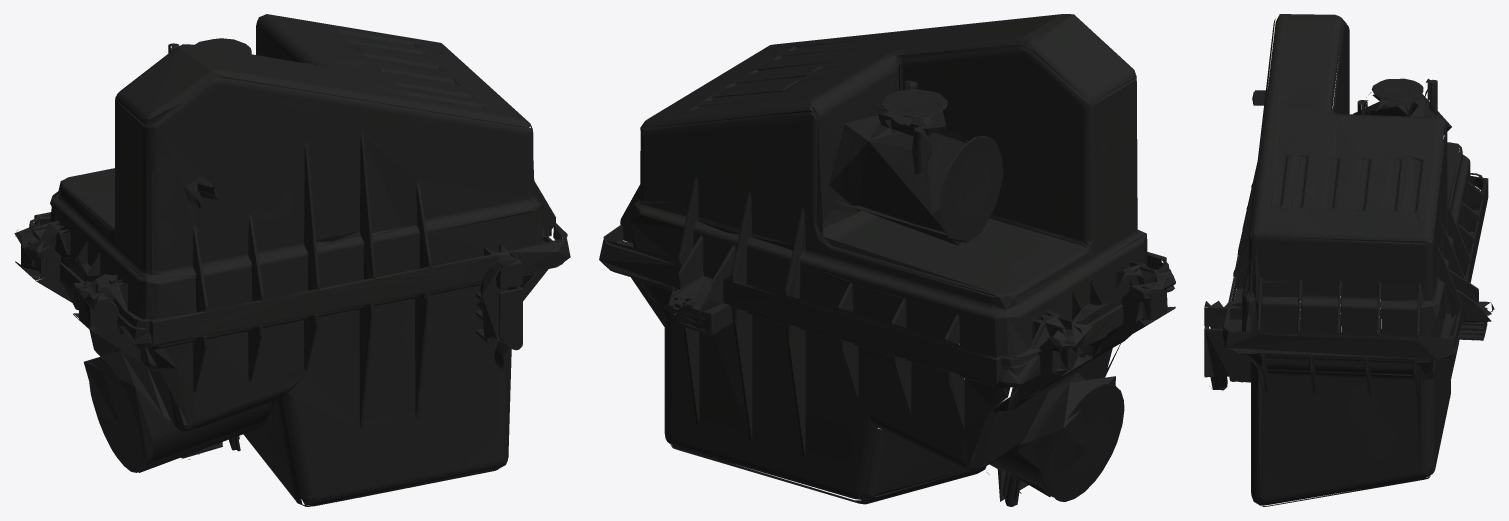
The model's file is airSystem_air_filter_box_a01.glb.
3 renders of one model, left to right at view 1: azimuth 30°, elevation 25°; view 2: azimuth 150°, elevation 25°; view 3: azimuth 270°, elevation 25°, orthographic. The views are drawn at different scales.
Parts seen in each view (by area): view 1: geometry_0; view 2: geometry_0; view 3: geometry_0.
Part boxes in pixels (box(x1,y1,x2,y2)): geometry_0: box(14, 14, 570, 506); geometry_0: box(599, 14, 1175, 506); geometry_0: box(1204, 14, 1494, 506).
Bounding box in the file's own units: 0.42 × 0.4043 × 0.279.
Materials: 1 (1 with a texture image).
